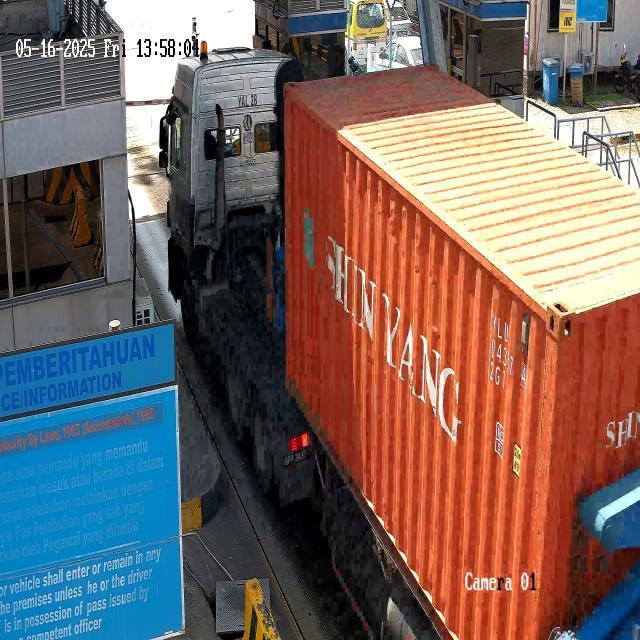ISO: (480, 356, 513, 394)
container_number: (489, 308, 539, 386)
